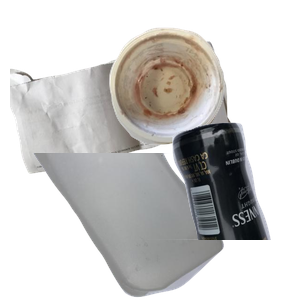glass: (106, 120, 300, 300)
paper: (10, 39, 236, 205)
plastic: (29, 153, 245, 300)
trash: (107, 25, 300, 162)
